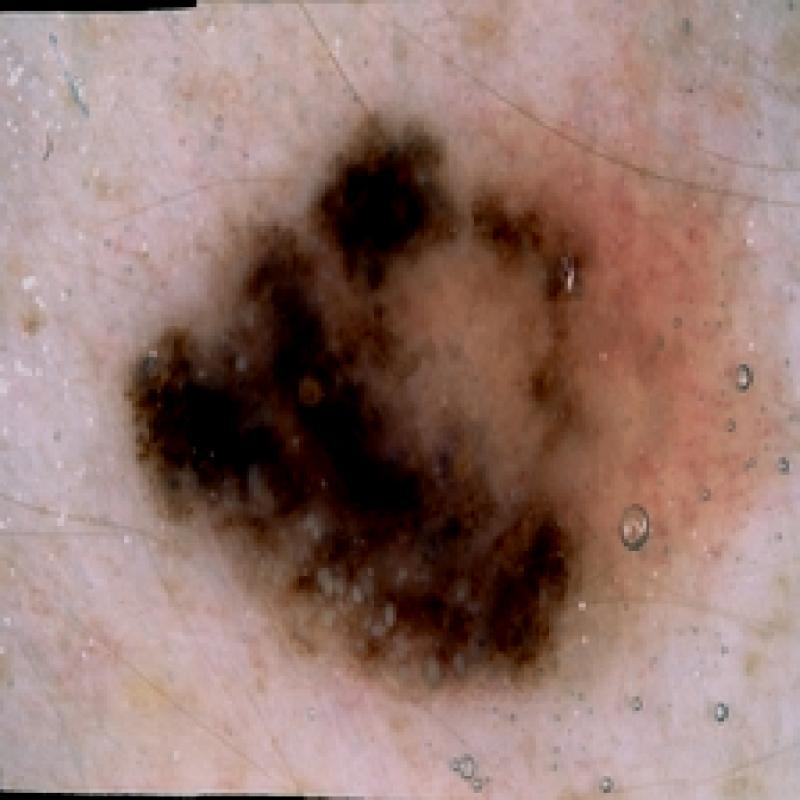malignant: (111, 109, 733, 700)
